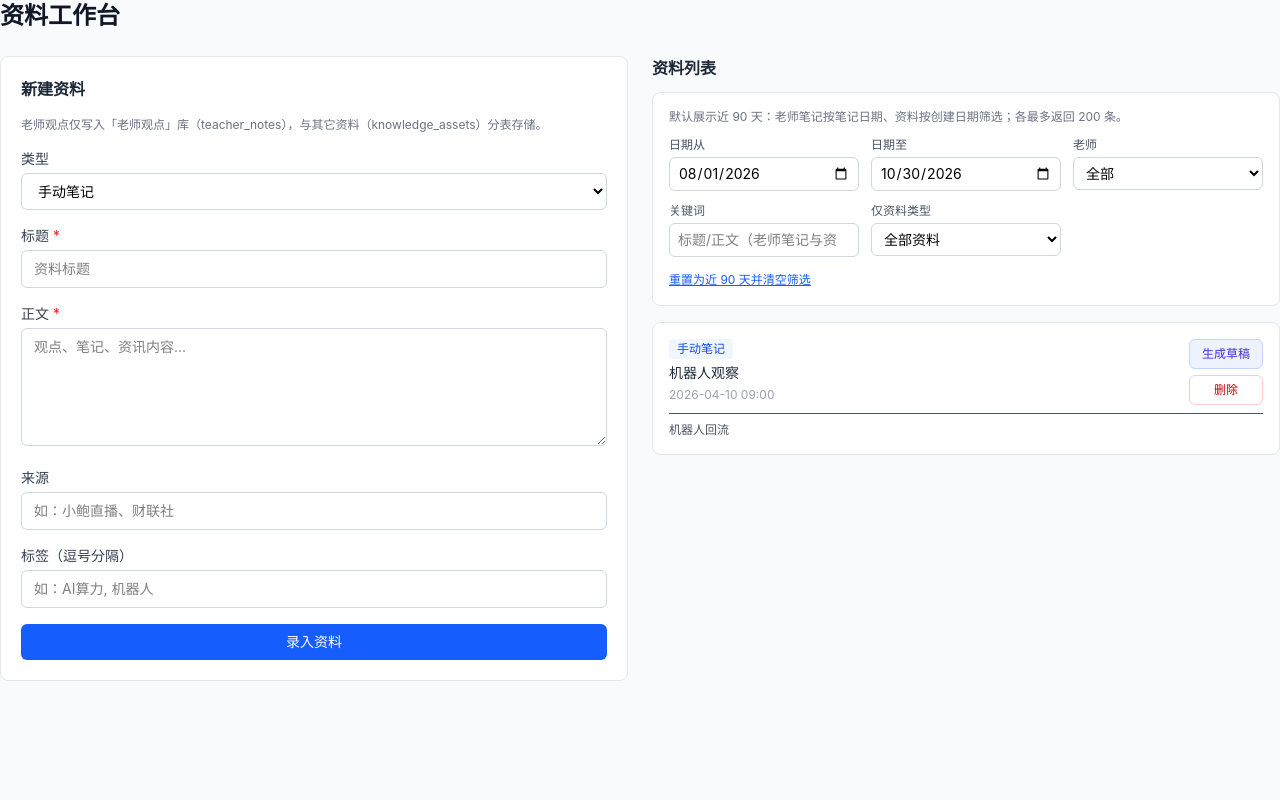
KnowledgeWorkbench › opens draft modal and shows draft_id after generation for asset
Click the button "生成草稿".
click(1226, 354)  # box [1189, 339, 1263, 369]
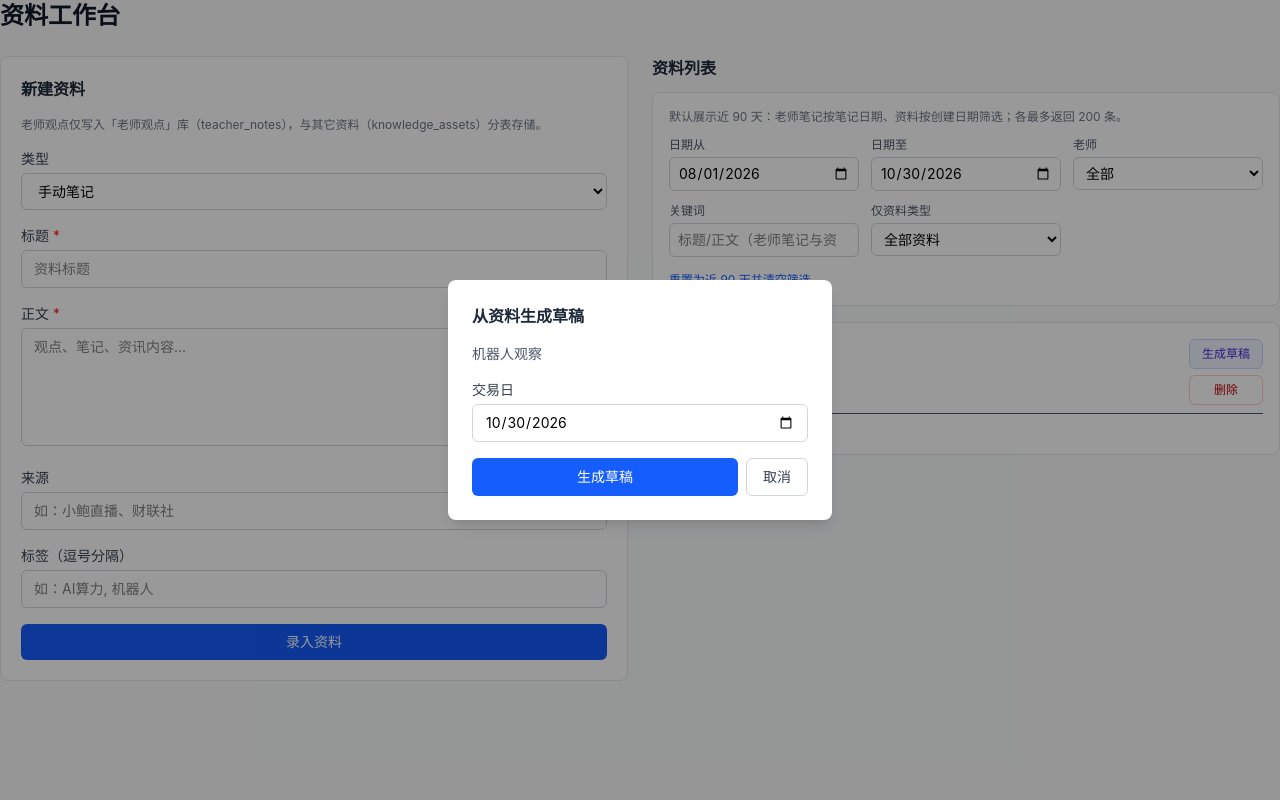
expect the heading "从资料生成草稿" is shown: met, box [472, 306, 584, 326]
Click the button "生成草稿".
click(605, 477)  # box [472, 458, 738, 496]
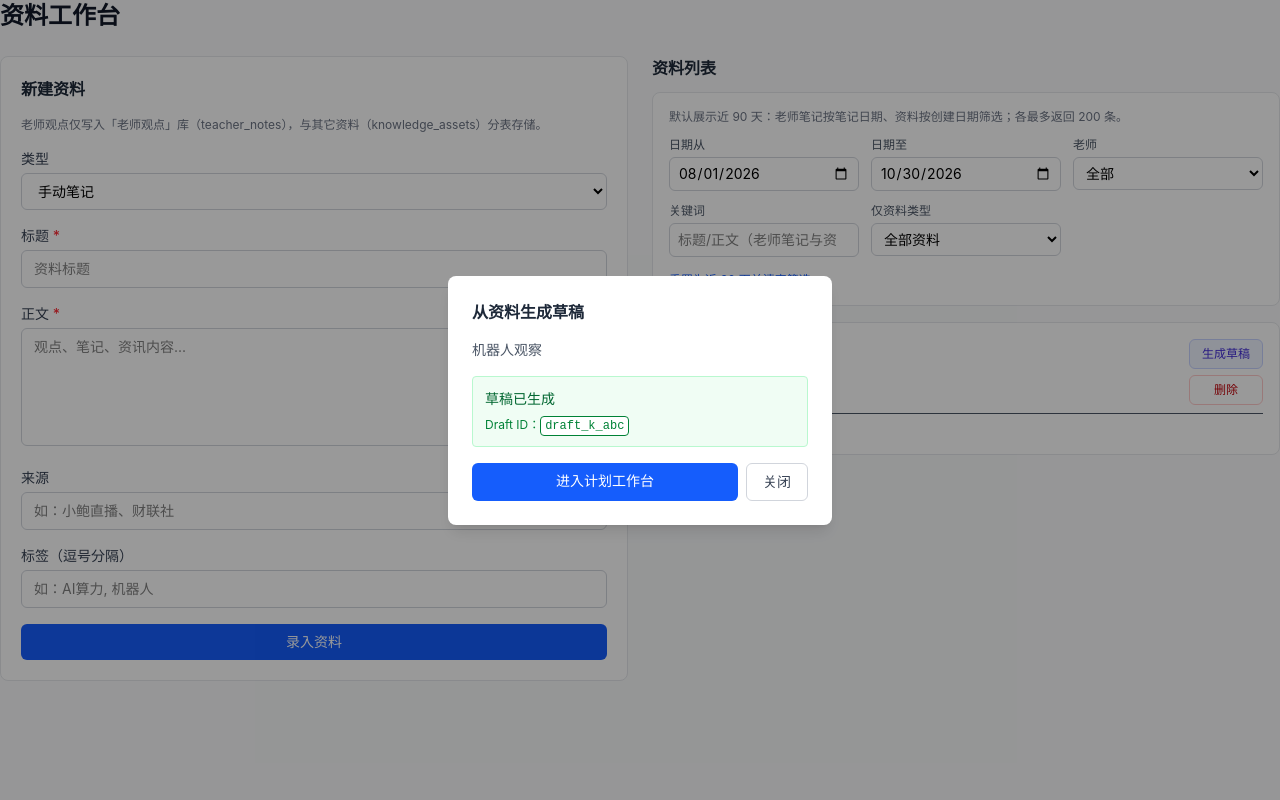
expect the text "草稿已生成" is shown: met, box [485, 390, 555, 406]
expect the text "draft_k_abc" is shown: met, box [540, 416, 629, 436]
expect the link "进入计划工作台" is shown: met, box [472, 462, 738, 500]
